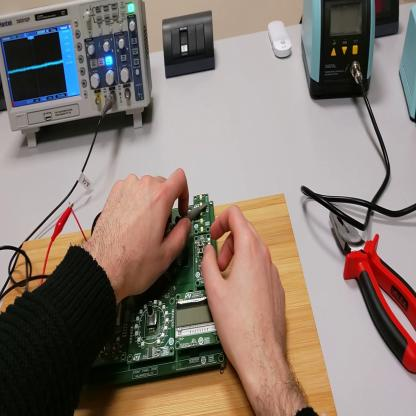hand: (202, 204, 288, 376), (91, 168, 191, 303)
low voltage board: (73, 195, 227, 387)
oscilloscope: (2, 2, 153, 146)
oscilloscope probe tip: (163, 200, 209, 240)
pliers: (330, 205, 416, 374)
socket: (377, 3, 400, 36), (2, 86, 8, 117)
welder base: (397, 8, 416, 121)
welder station: (302, 1, 377, 102)
working area: (2, 183, 339, 415)
